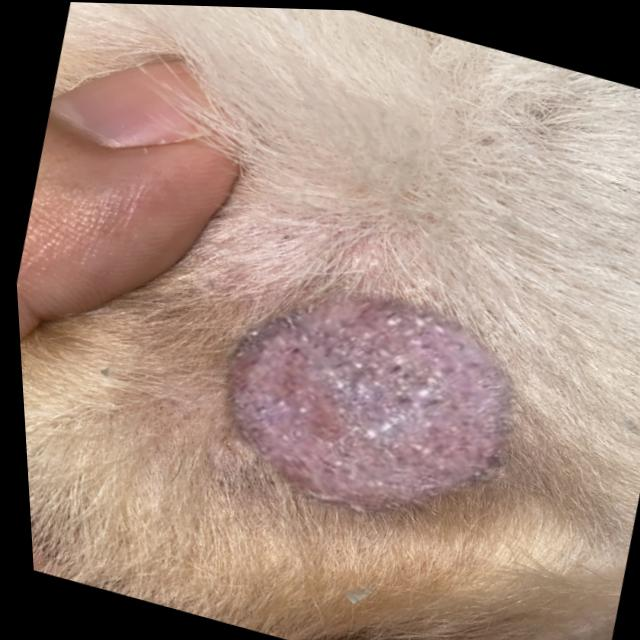ringworm: (179, 204, 545, 579)
